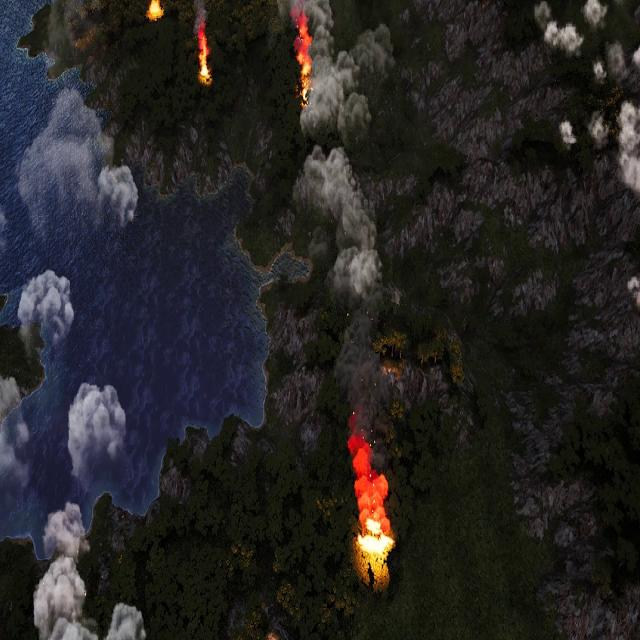fire: (347, 435, 395, 585), (292, 15, 312, 106), (196, 27, 213, 82), (147, 0, 162, 19)
smoke: (291, 0, 399, 429), (17, 81, 142, 246), (532, 0, 640, 187), (35, 499, 151, 640), (67, 376, 132, 487), (17, 262, 76, 363), (0, 373, 40, 500)
